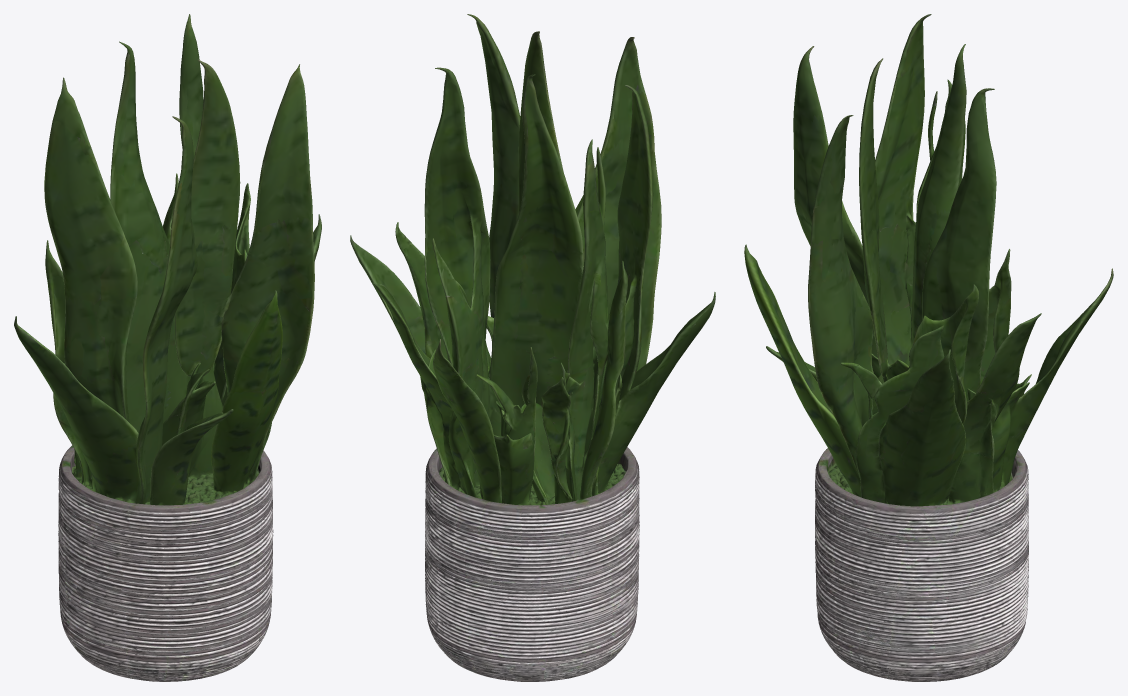
Rendered from pflanze-01.glb.
3 views of the same model, side by side, from view 1: azimuth 30°, elevation 25°; view 2: azimuth 150°, elevation 25°; view 3: azimuth 270°, elevation 25° (orthographic).
Size of the model in its own units: 1.12 by 1.9 by 1.07.
1 material, 1 textured.
